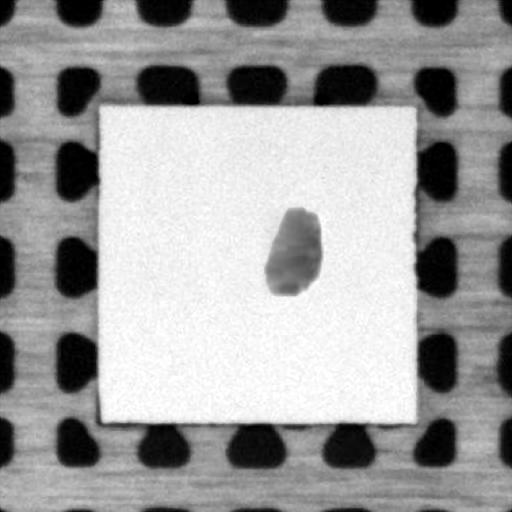DIE_INK: (264, 208, 327, 293)
